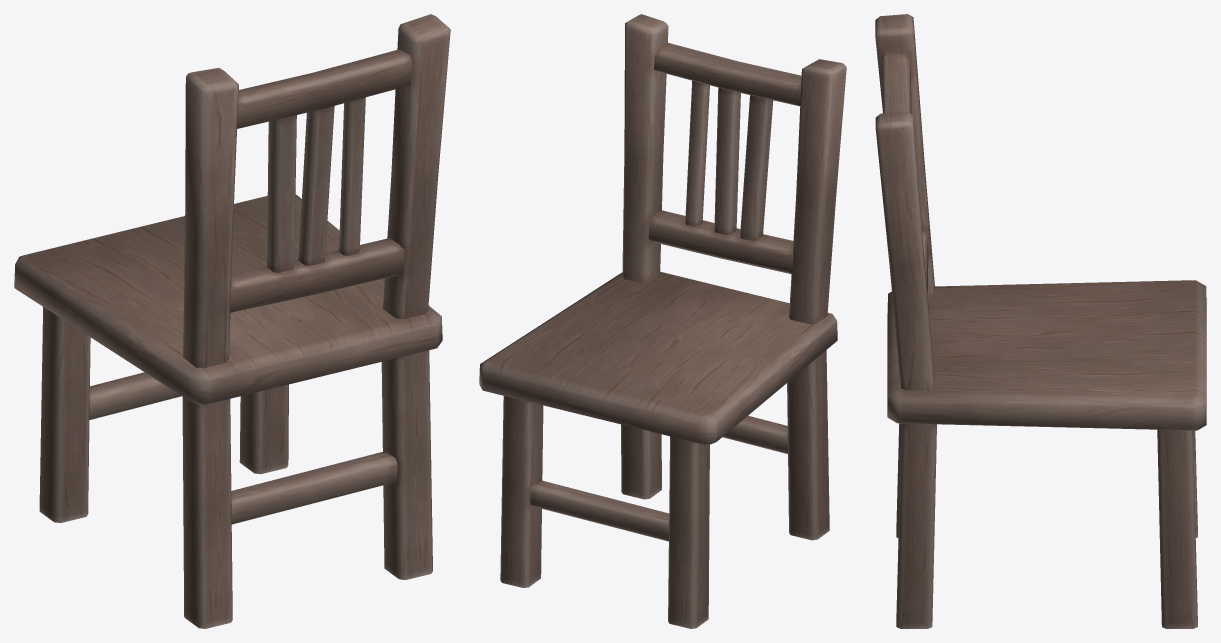
3 views of the same model, side by side, from view 1: azimuth 30°, elevation 25°; view 2: azimuth 150°, elevation 25°; view 3: azimuth 270°, elevation 25° (orthographic). The views are drawn at different scales.
Visible parts, largest first — view 1: submesh_0; view 2: submesh_0; view 3: submesh_0.
Boxes of the visible parts, x1,y1,x2,y2 form: submesh_0: (14,14,450,628); submesh_0: (479,14,846,628); submesh_0: (875,14,1206,628).
Size of the model in its own units: 0.6279 by 1.17 by 0.6936.
Materials: 1 (1 with a texture image).
